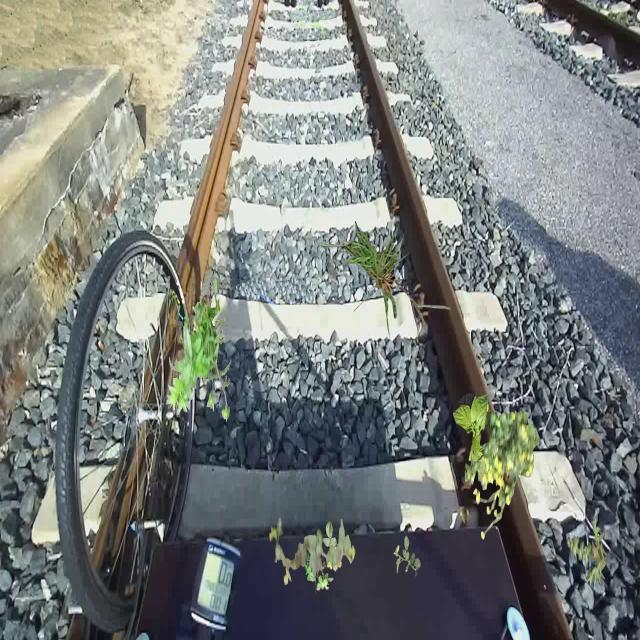Plant: (307, 221, 450, 340), (465, 400, 540, 540), (166, 279, 230, 422), (269, 517, 356, 586), (566, 516, 608, 588), (453, 393, 488, 476), (304, 521, 342, 594), (393, 536, 420, 577)
